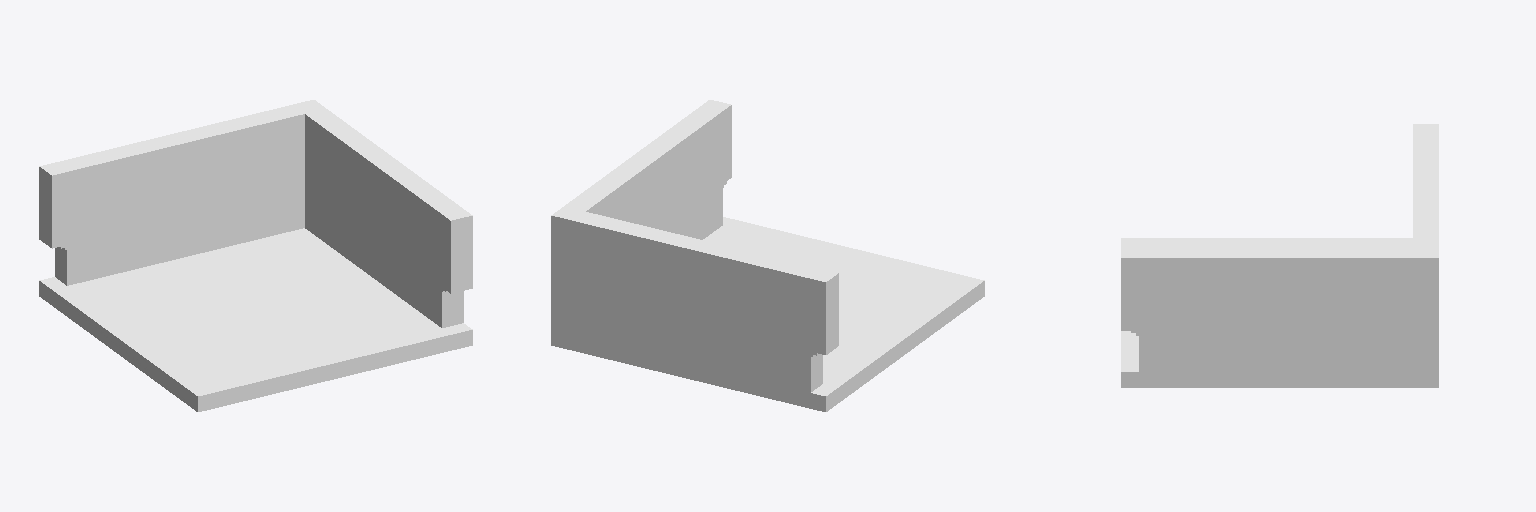
The model's file is PlcehldRoom2-1.obj.
The picture shows the model from 3 angles: view 1: azimuth 30°, elevation 25°; view 2: azimuth 150°, elevation 25°; view 3: azimuth 270°, elevation 25°; orthographic projection.
Visible parts, largest first — view 1: object 1; view 2: object 1; view 3: object 1.
Part boxes in pixels (left/top/right/bottom): object 1: left=39, top=100, right=472, bottom=411; object 1: left=551, top=100, right=984, bottom=411; object 1: left=1121, top=124, right=1438, bottom=387.
Bounding box in the file's own units: 12.6 × 5.7 × 12.6.